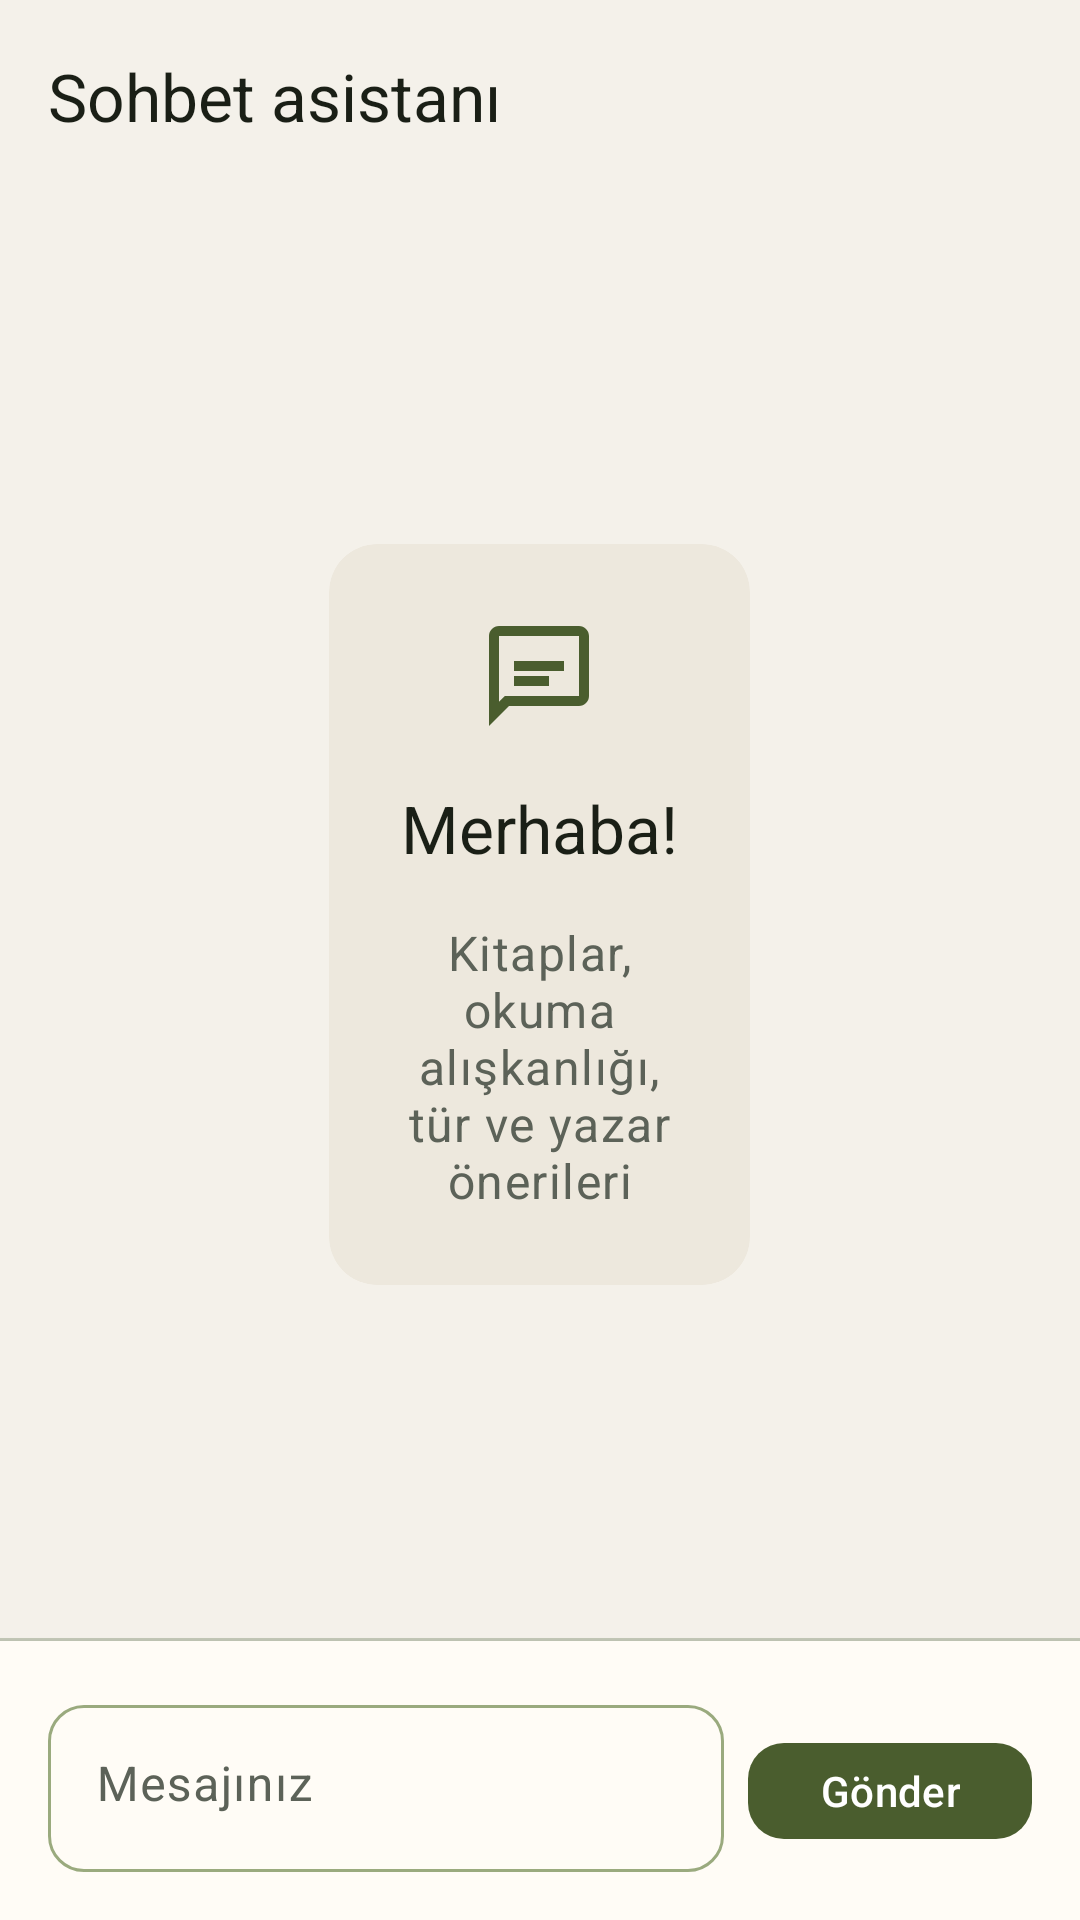

Screen size 1080w x 1920h. Icon name, then its center in pixels as point (x, y):
chat: point (539, 676)
